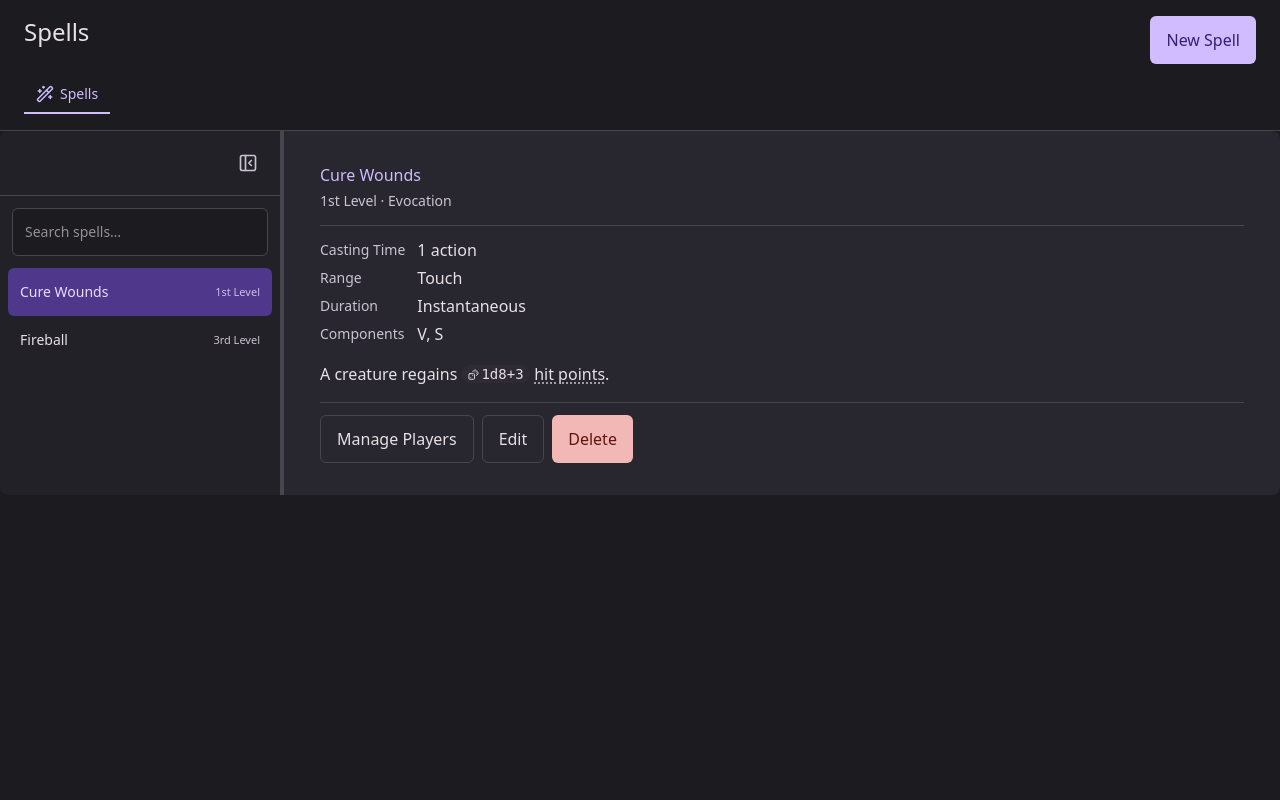
Test: VW0 standard browsers › SpellBrowser: lists sorted spells, first selected, detail updates on click
Expected: the heading "Cure Wounds" is shown, [320, 164, 421, 186]
Click the text "Fireball" at (44, 340), box [20, 330, 68, 350]
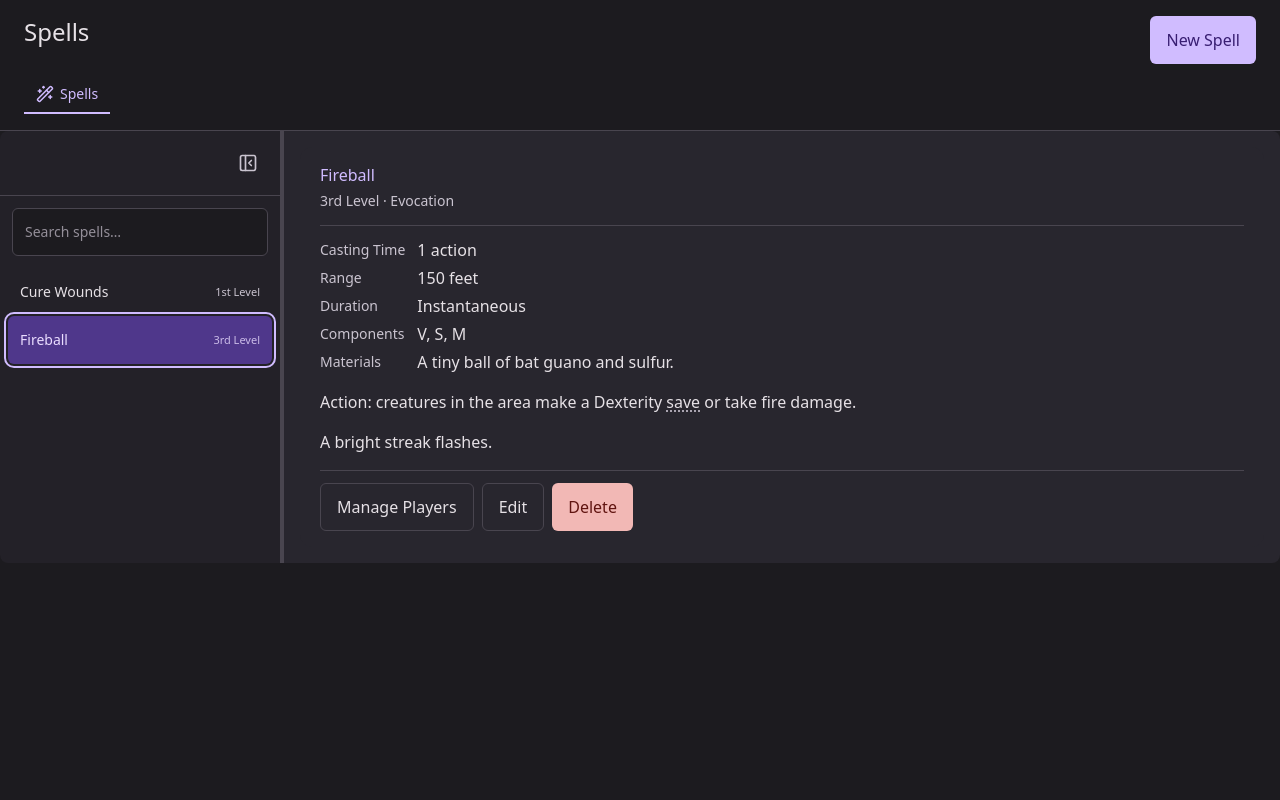
Now the heading "Fireball" is shown, box [320, 164, 375, 186]
Now the text "150 feet" is shown, box [417, 267, 478, 289]
